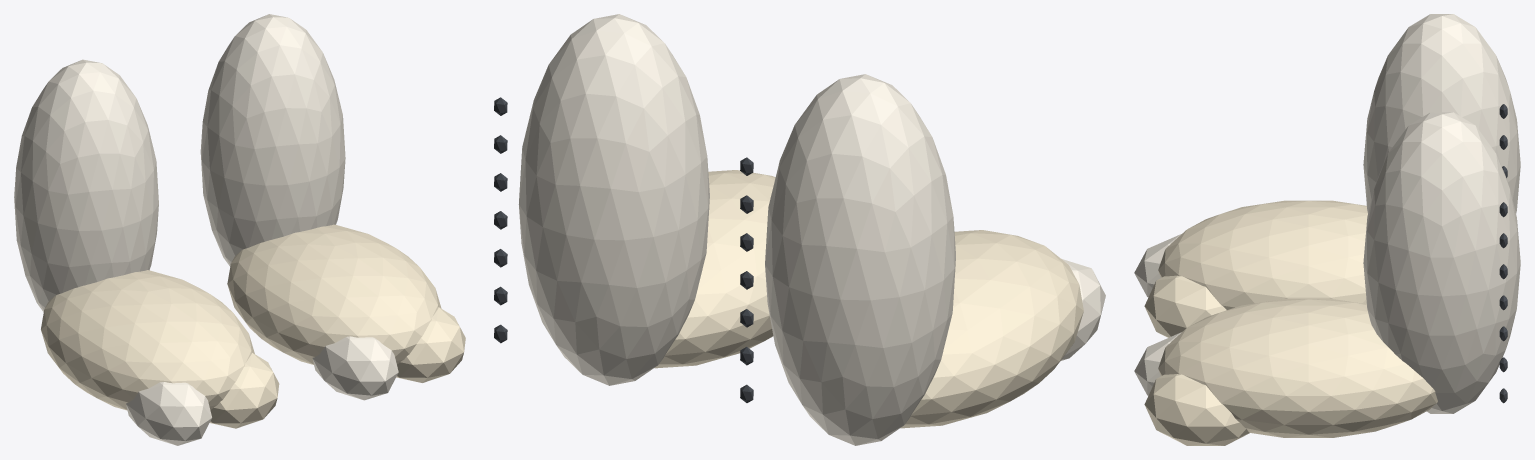
The model's file is costume_tabi.glb.
The picture shows the model from 3 angles, left to right: view 1: azimuth 30°, elevation 25°; view 2: azimuth 150°, elevation 25°; view 3: azimuth 270°, elevation 25°; orthographic projection. The views are drawn at different scales.
Visible parts, largest first — view 1: Split-toe tabi rising ankle.001, Split-toe tabi rising ankle, Stitched soft shoe foot.001, Stitched soft shoe foot, Tabi independently split big toe, Tabi independently split big toe.001, Tabi other toe section, Tabi other toe section.001; view 2: Split-toe tabi rising ankle.001, Split-toe tabi rising ankle, Stitched soft shoe foot, Stitched soft shoe foot.001, Tabi independently split big toe; view 3: Split-toe tabi rising ankle.001, Stitched soft shoe foot.001, Stitched soft shoe foot, Split-toe tabi rising ankle, Tabi other toe section.001, Tabi other toe section, Tabi independently split big toe.001, Tabi independently split big toe.
Boxes of the visible parts, <box> form: Split-toe tabi rising ankle.001: <box>200,14,345,266</box>; Split-toe tabi rising ankle: <box>14,59,158,311</box>; Stitched soft shoe foot.001: <box>227,224,441,364</box>; Stitched soft shoe foot: <box>41,270,254,410</box>; Tabi independently split big toe: <box>126,382,211,445</box>; Tabi independently split big toe.001: <box>312,336,398,400</box>; Tabi other toe section: <box>210,352,279,428</box>; Tabi other toe section.001: <box>396,307,465,382</box>; Split-toe tabi rising ankle.001: <box>518,14,709,385</box>; Split-toe tabi rising ankle: <box>765,74,955,445</box>; Stitched soft shoe foot: <box>900,230,1083,428</box>; Stitched soft shoe foot.001: <box>654,170,775,368</box>; Tabi independently split big toe: <box>1061,259,1105,360</box>; Split-toe tabi rising ankle.001: <box>1363,112,1520,413</box>; Stitched soft shoe foot.001: <box>1158,299,1437,437</box>; Stitched soft shoe foot: <box>1158,200,1367,309</box>; Split-toe tabi rising ankle: <box>1363,14,1520,213</box>; Tabi other toe section.001: <box>1144,374,1249,445</box>; Tabi other toe section: <box>1144,275,1226,337</box>; Tabi independently split big toe.001: <box>1134,332,1181,395</box>; Tabi independently split big toe: <box>1134,234,1181,297</box>.
Bounding box in the file's own units: 1.95 × 1.52 × 1.72.
